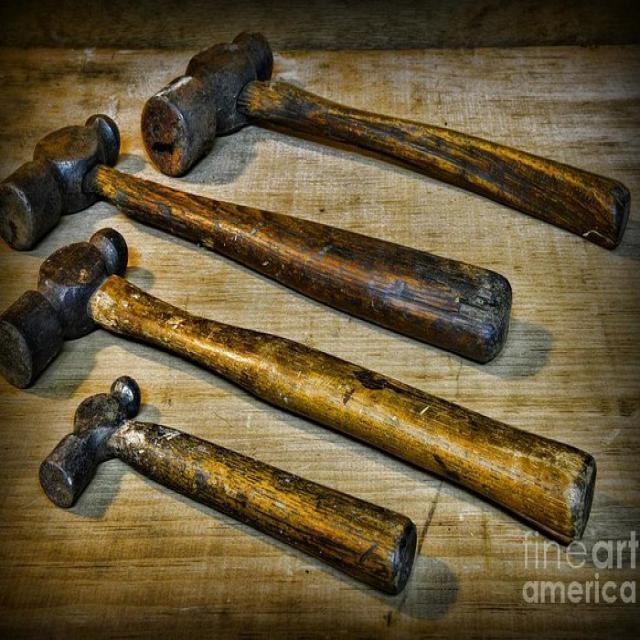hammer: (0, 220, 603, 550), (0, 108, 523, 367), (135, 29, 636, 255), (39, 370, 422, 608)
